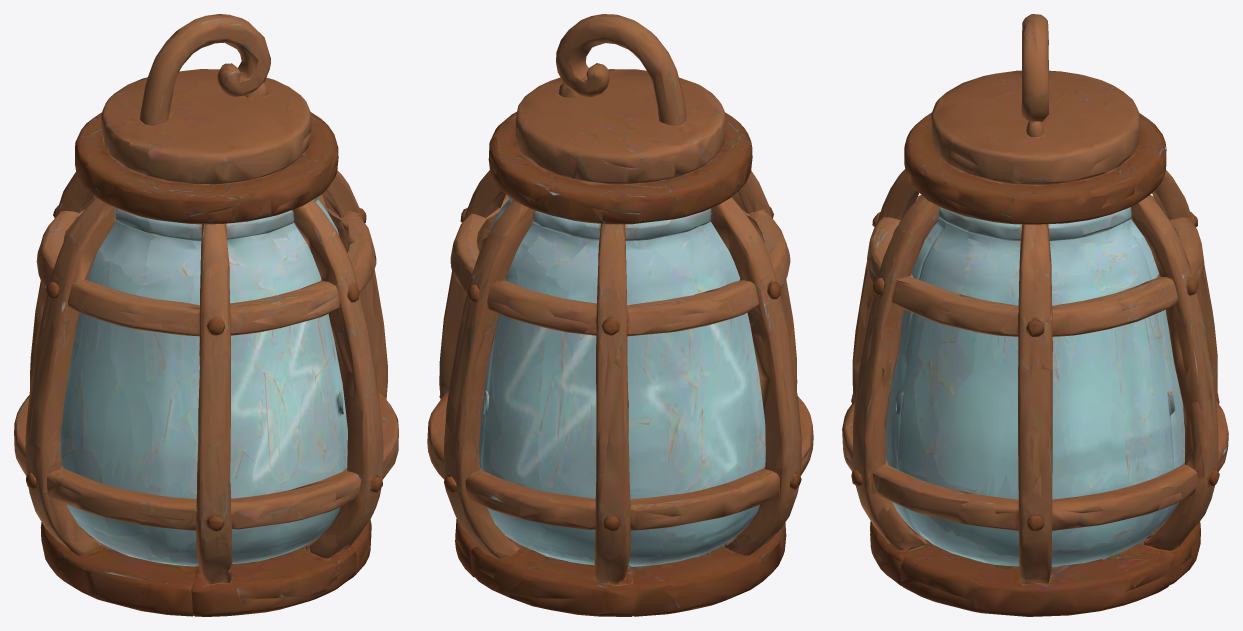
File: weapon-zap.glb
3 renders of one model, left to right at view 1: azimuth 30°, elevation 25°; view 2: azimuth 150°, elevation 25°; view 3: azimuth 270°, elevation 25°, orthographic.
Visible parts, largest first — view 1: Mesh_0; view 2: Mesh_0; view 3: Mesh_0.
Boxes of the visible parts, box(x1,y1,x2,y2) form: Mesh_0: box(14, 14, 398, 616); Mesh_0: box(427, 14, 813, 616); Mesh_0: box(842, 14, 1228, 616).
Size of the model in its own units: 1.33 by 1.9 by 1.25.
Materials: 1 (1 with a texture image).
